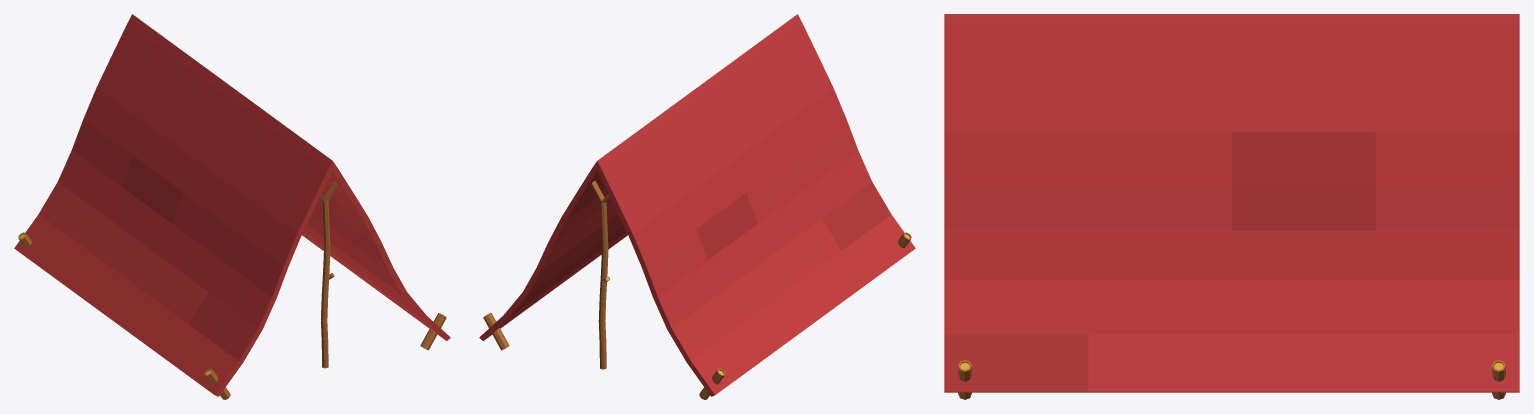
Rendered from tent.glb.
3 views of the same model, side by side, from view 1: azimuth 30°, elevation 25°; view 2: azimuth 150°, elevation 25°; view 3: azimuth 270°, elevation 25° (orthographic). The views are drawn at different scales.
Visible parts, largest first — view 1: Plane, Cylinder.001, Cylinder.003; view 2: Plane, Cylinder.001, Cylinder.003; view 3: Plane, Cylinder.003.
Part boxes in pixels (<box>): Plane: <box>14,14,450,396</box>; Cylinder.001: <box>320,181,338,368</box>; Cylinder.003: <box>18,232,446,399</box>; Plane: <box>479,14,915,396</box>; Cylinder.001: <box>591,180,610,369</box>; Cylinder.003: <box>483,232,911,399</box>; Plane: <box>944,14,1519,392</box>; Cylinder.003: <box>958,360,1505,399</box>.
Bounding box in the file's own units: 2.55 × 2.21 × 3.67.
